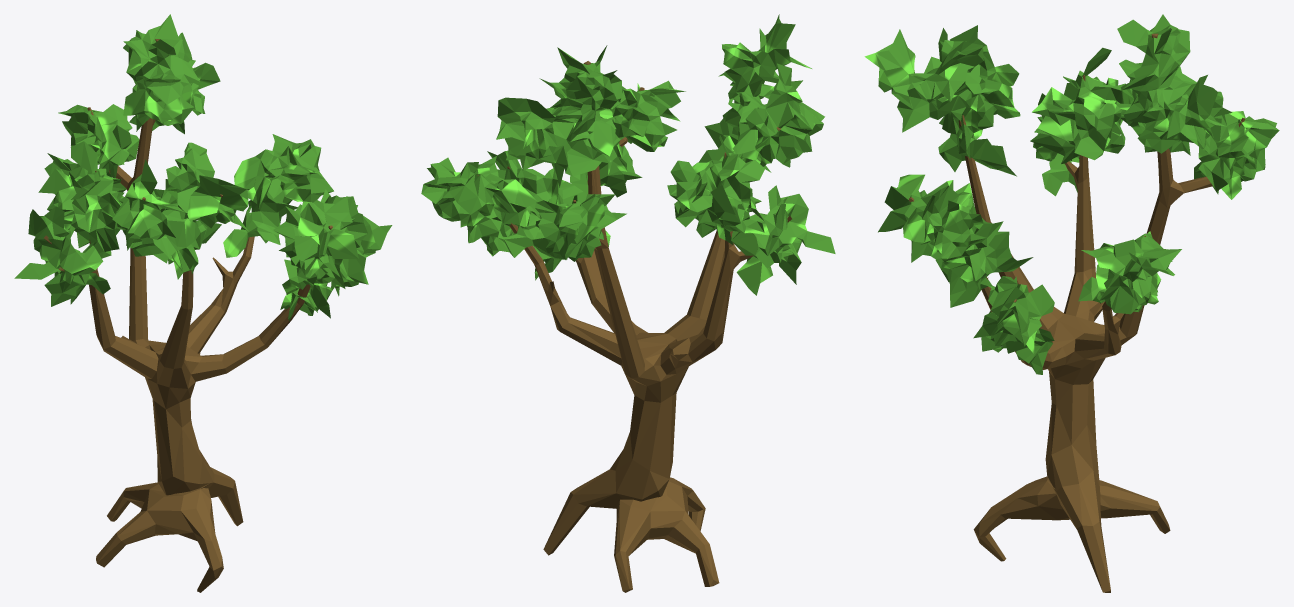
The model's file is arbol3LowRes .fbx.
The picture shows the model from 3 angles, left to right: view 1: azimuth 30°, elevation 25°; view 2: azimuth 150°, elevation 25°; view 3: azimuth 270°, elevation 25°; orthographic projection. The views are drawn at different scales.
Parts seen in each view (by area): view 1: Icosphere.028 - copy.002; view 2: Icosphere.028 - copy.002; view 3: Icosphere.028 - copy.002.
Boxes of the visible parts, x1,y1,x2,y2 form: Icosphere.028 - copy.002: (14,14,392,592); Icosphere.028 - copy.002: (421,14,835,592); Icosphere.028 - copy.002: (864,14,1279,592).
Bounding box in the file's own units: 871 × 928 × 1293.
